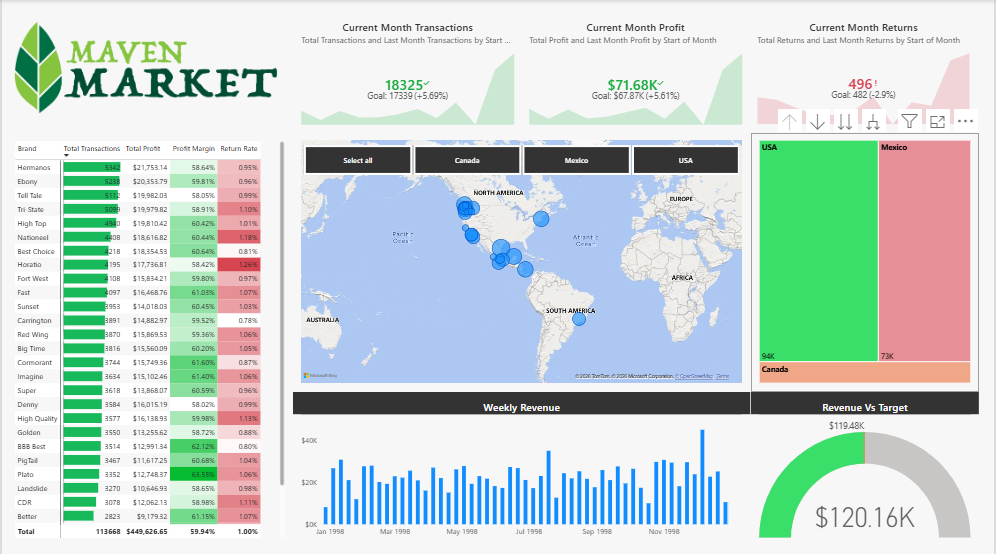

What the dashboard file says about the page in this screenshot:
{"tool":"powerbi","page":{"name":"Tooline Performance","canvas":[1920,1080],"ordinal":0},"visuals":[{"type":"image","box":[10,0,532.9,260],"z":0},{"type":"pivotTable","fields":{"Rows":["Products.product_brand"],"Values":["Measures Table.Total Transactions","Measures Table.Total Profit","Measures Table.Profit Margin","Measures Table.Return Rate"]},"box":[10,260,552.5,797.5],"z":1000},{"type":"kpi","title":"Current Month Transactions ","fields":{"TrendLine":["Calendar.Start of Month"],"Indicator":["Measures Table.Total Transactions"],"Goal":["Measures Table.Last Month Transactions"]},"box":[563.6,23.7,444,234],"z":2000},{"type":"kpi","title":"Current Month Returns","fields":{"TrendLine":["Calendar.Start of Month"],"Indicator":["Measures Table.Total Returns"],"Goal":["Measures Table.Last Month Returns"]},"box":[1446.7,23.7,443.3,233.3],"z":3000},{"type":"kpi","title":"Current Month Profit","fields":{"TrendLine":["Calendar.Start of Month"],"Indicator":["Measures Table.Total Profit"],"Goal":["Measures Table.Last Month Profit"]},"box":[1005.1,23.7,444,234],"z":4000},{"type":"map","fields":{"Category":["Stores.store_city"],"Size":["Measures Table.Total Transactions"]},"box":[563.6,258.1,884.9,500.4],"z":5000},{"type":"slicer","fields":{"Values":["Stores.store_country"]},"box":[564,278,884,62],"z":6000},{"type":"treemap","fields":{"Group":["Stores.store_country","Stores.store_state","Stores.store_city"],"Values":["Measures Table.Total Transactions"]},"box":[1449,258,441,500],"z":7000},{"type":"columnChart","title":"Weekly Revenue","fields":{"Y":["Measures Table.Total Revenue"],"Category":["Calendar.Start of Week Hierarchy.Start of Week"]},"box":[564,758,885,300],"z":8000},{"type":"gauge","title":"Revenue Vs Target","fields":{"Y":["Measures Table.Total Revenue"],"TargetValue":["Measures Table.Revenue Target"]},"box":[1449,758,441,300],"z":8001}]}

Visuals, with their boxes in screenshot pixels (x1, y1, x2, y2), scaled from the page's 1920x1080 canvas onto the 996x554 screenshot:
image: [5,0,282,133]
pivotTable - Products.product_brand x Measures Table.Total Transactions: [5,133,292,542]
"Current Month Transactions " kpi: [292,12,523,132]
"Current Month Returns" kpi: [750,12,980,132]
"Current Month Profit" kpi: [521,12,752,132]
map - Stores.store_city x Measures Table.Total Transactions: [292,132,751,389]
slicer - Stores.store_country: [293,143,751,174]
treemap - Stores.store_country x Stores.store_state: [752,132,980,389]
"Weekly Revenue" columnChart: [293,389,752,543]
"Revenue Vs Target" gauge: [752,389,980,543]
